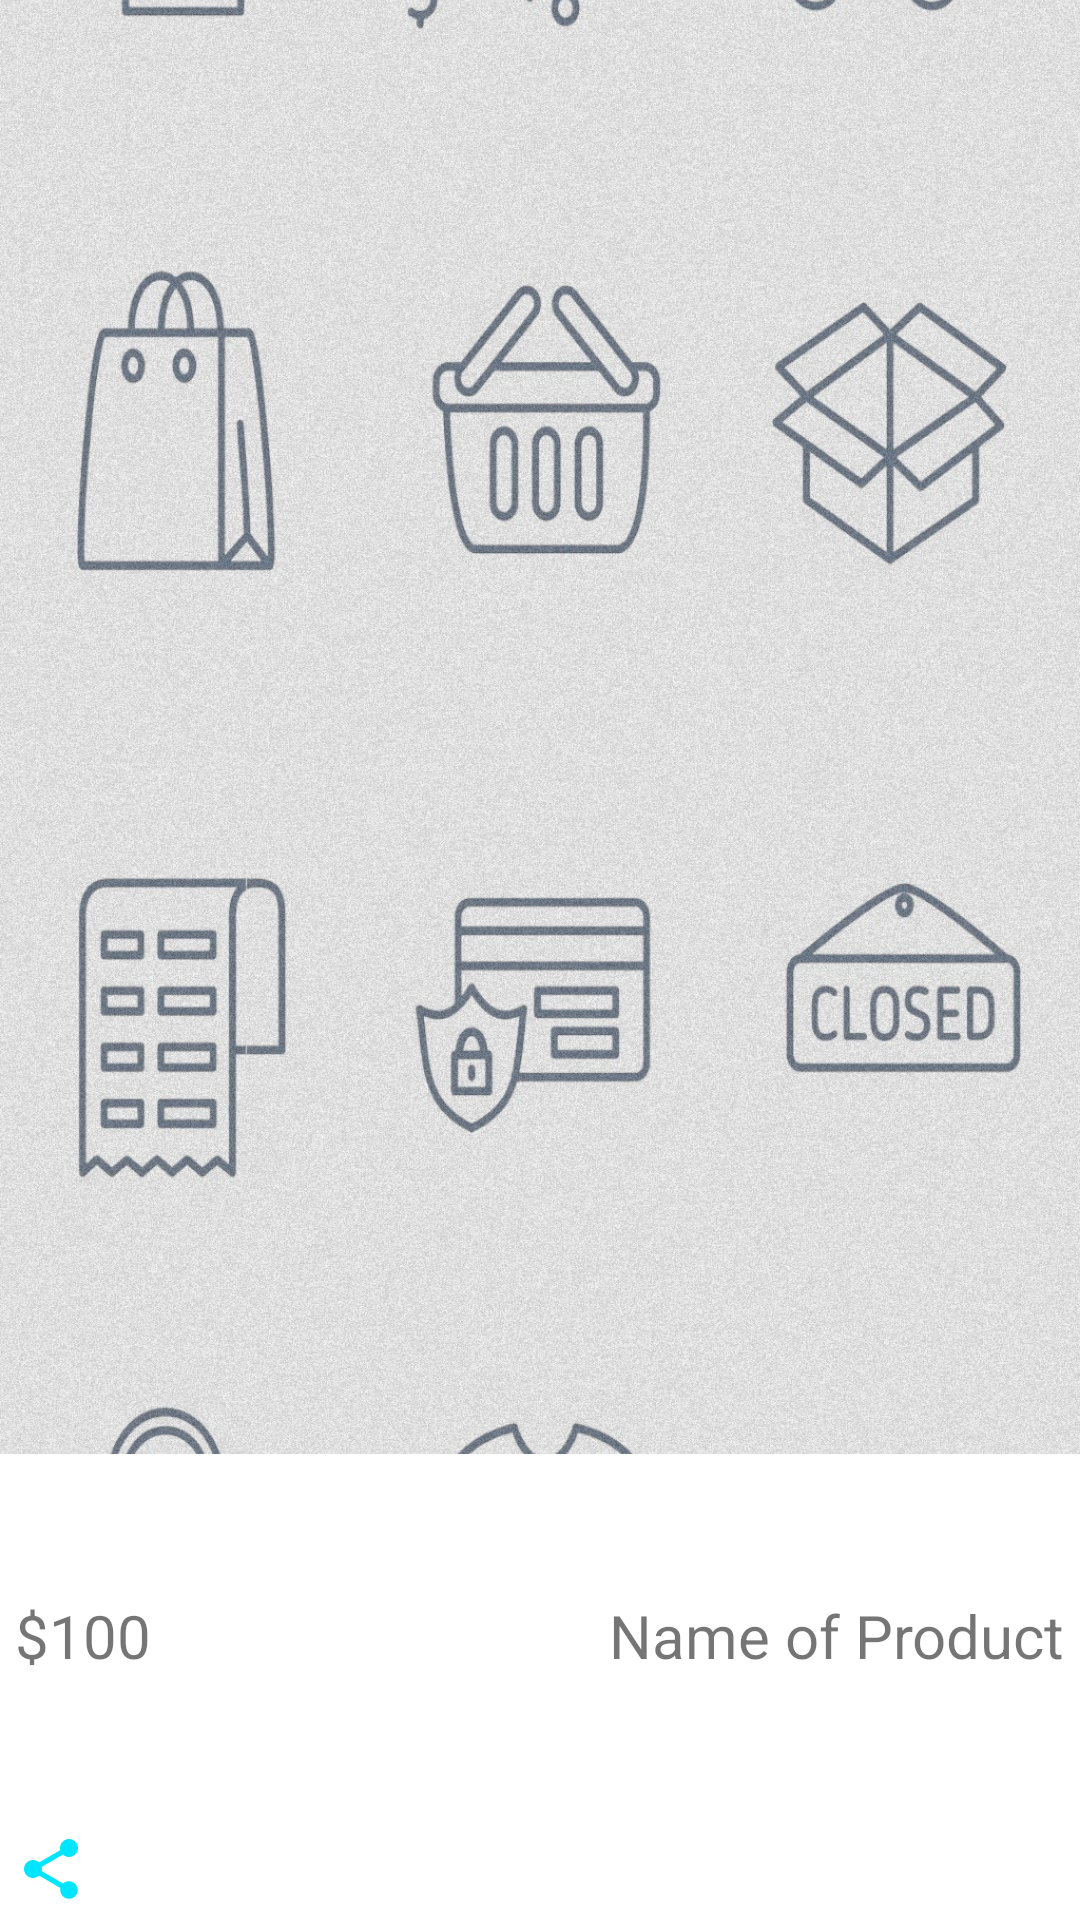

Where icons sit on this 1080x1920 app screen, as [x1,y1,x2,y2]:
share: [24,1839,78,1899]
